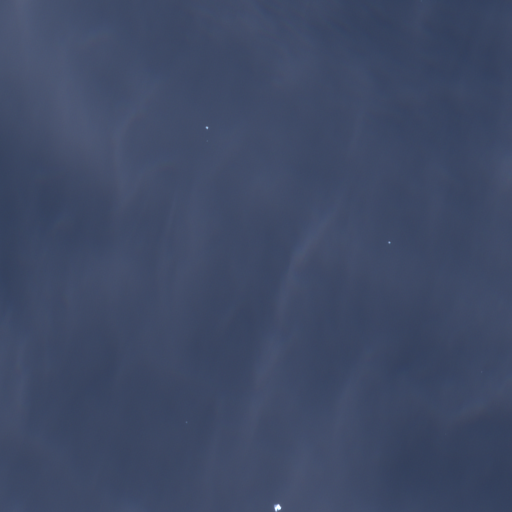Iceberg: (274, 504, 281, 511), (205, 126, 208, 129), (388, 241, 390, 243), (206, 140, 207, 141), (186, 421, 187, 422)
